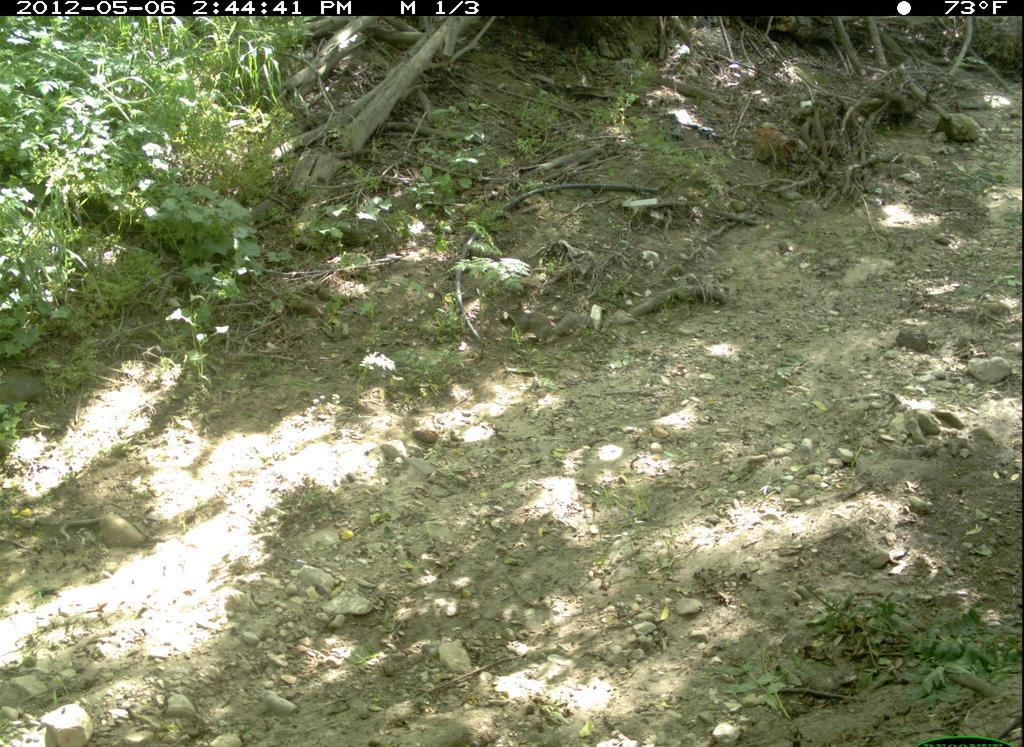squirrel: (484, 285, 611, 365)
